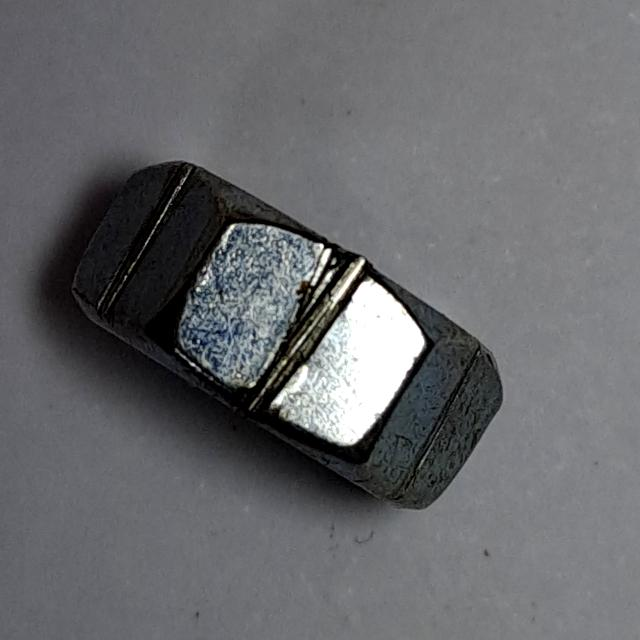Side_Scratches: (61, 154, 519, 519)
